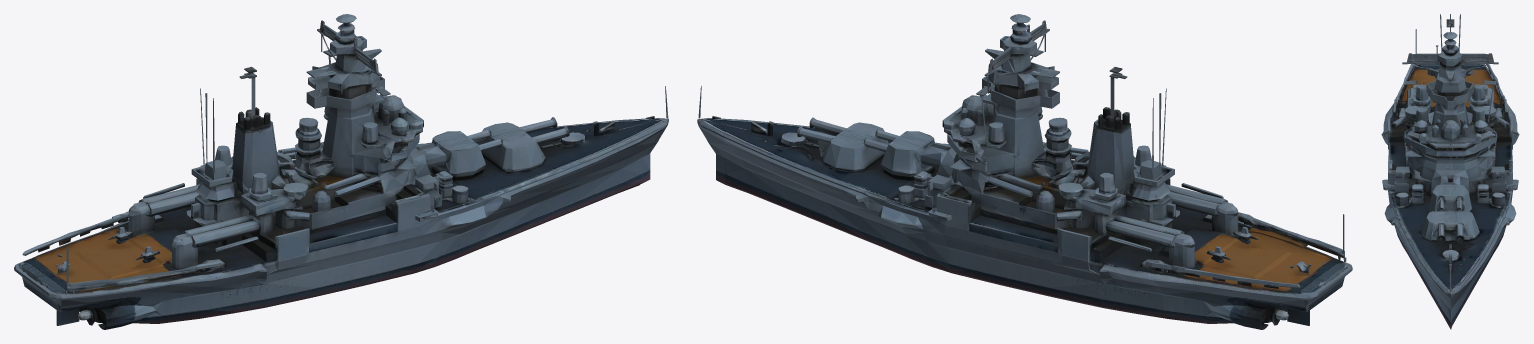
File: leviathan_LOD0.glb
3 views of the same model, side by side, from view 1: azimuth 30°, elevation 25°; view 2: azimuth 150°, elevation 25°; view 3: azimuth 270°, elevation 25° (orthographic). The views are drawn at different scales.
Parts seen in each view (by area): view 1: leviathan_LOD0; view 2: leviathan_LOD0; view 3: leviathan_LOD0.
Boxes of the visible parts, x1,y1,x2,y2 form: leviathan_LOD0: (14, 14, 668, 329); leviathan_LOD0: (697, 14, 1352, 329); leviathan_LOD0: (1381, 14, 1519, 329).
Size of the model in its own units: 0.9925 by 0.3581 by 0.2432.
1 material, 1 textured.
